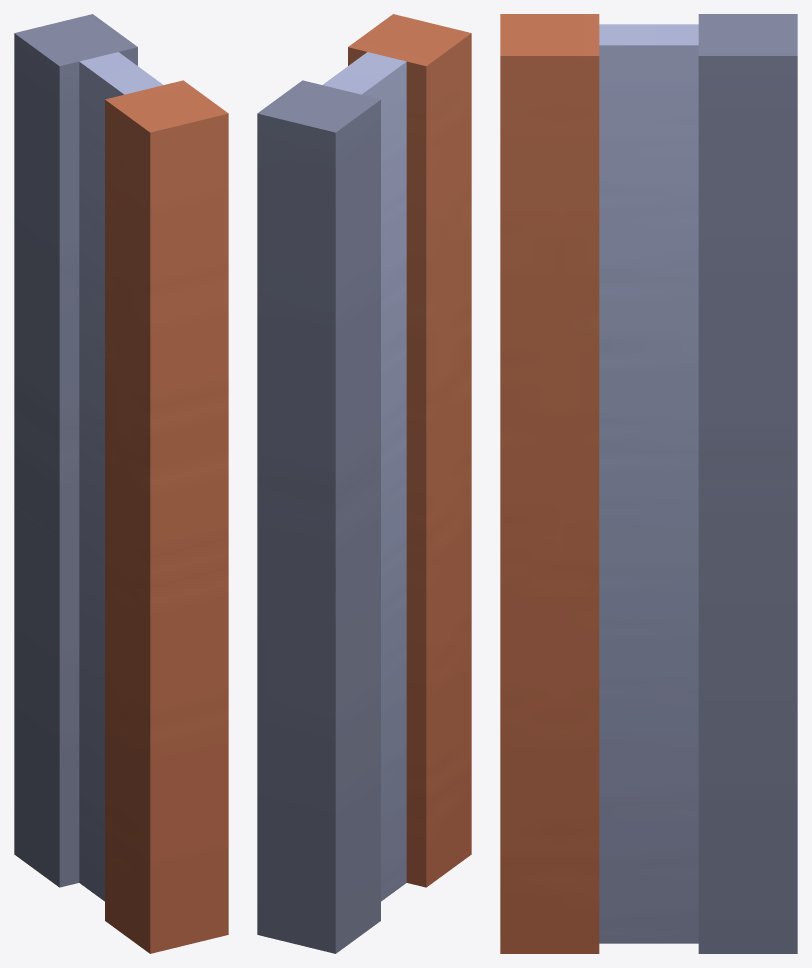
Rendered from wallArch.fbx.
3 renders of one model, left to right at view 1: azimuth 30°, elevation 25°; view 2: azimuth 150°, elevation 25°; view 3: azimuth 270°, elevation 25°, orthographic. The views are drawn at different scales.
Parts seen in each view (by area): view 1: wallArch; view 2: wallArch; view 3: wallArch.
Part boxes in pixels (x1,y1,x2,y2): wallArch: [14, 14, 228, 953]; wallArch: [257, 14, 471, 953]; wallArch: [500, 14, 797, 953].
Size of the model in its own units: 0.1 by 0.3 by 1.
